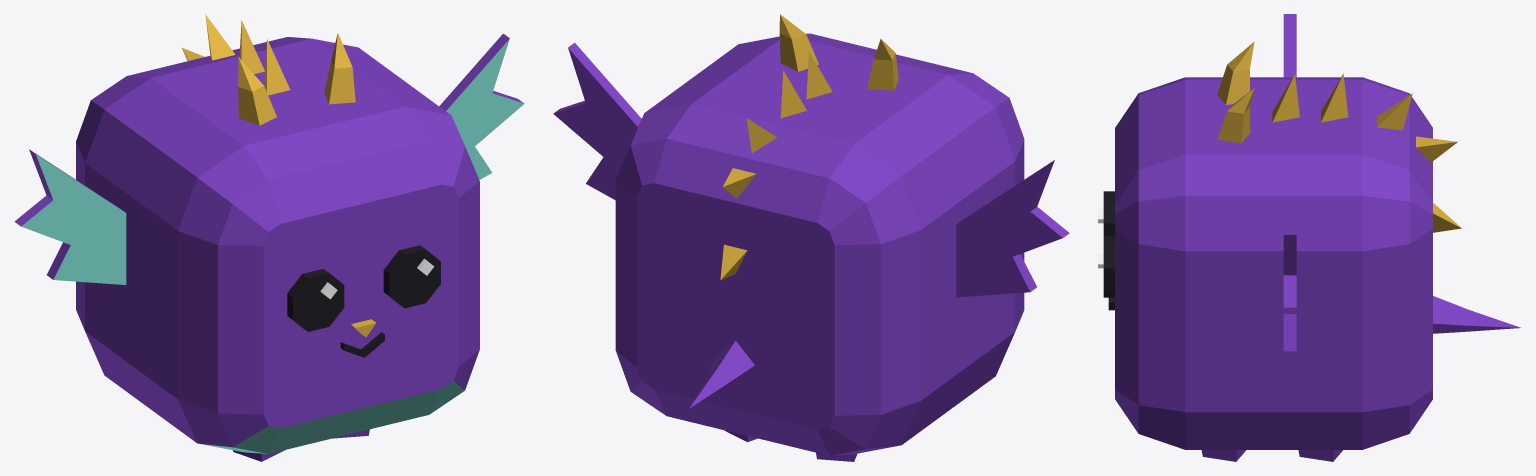
Rendered from dragon-pet.glb.
3 renders of one model, left to right at view 1: azimuth 30°, elevation 25°; view 2: azimuth 150°, elevation 25°; view 3: azimuth 270°, elevation 25°, orthographic. The views are drawn at different scales.
Parts seen in each view (by area): view 1: Body, Accent, Eyes, Nose; view 2: Body, Nose; view 3: Body, Nose, Eyes.
Boxes of the visible parts, x1,y1,x2,y2 form: Body: [14, 33, 523, 461]; Accent: [21, 39, 524, 453]; Eyes: [287, 245, 440, 357]; Nose: [182, 14, 375, 337]; Body: [553, 33, 1069, 461]; Nose: [720, 14, 898, 280]; Body: [1115, 14, 1520, 461]; Nose: [1217, 41, 1461, 232]; Eyes: [1103, 191, 1114, 310].
Bounding box in the file's own units: 3.44 × 2.51 × 2.62.
